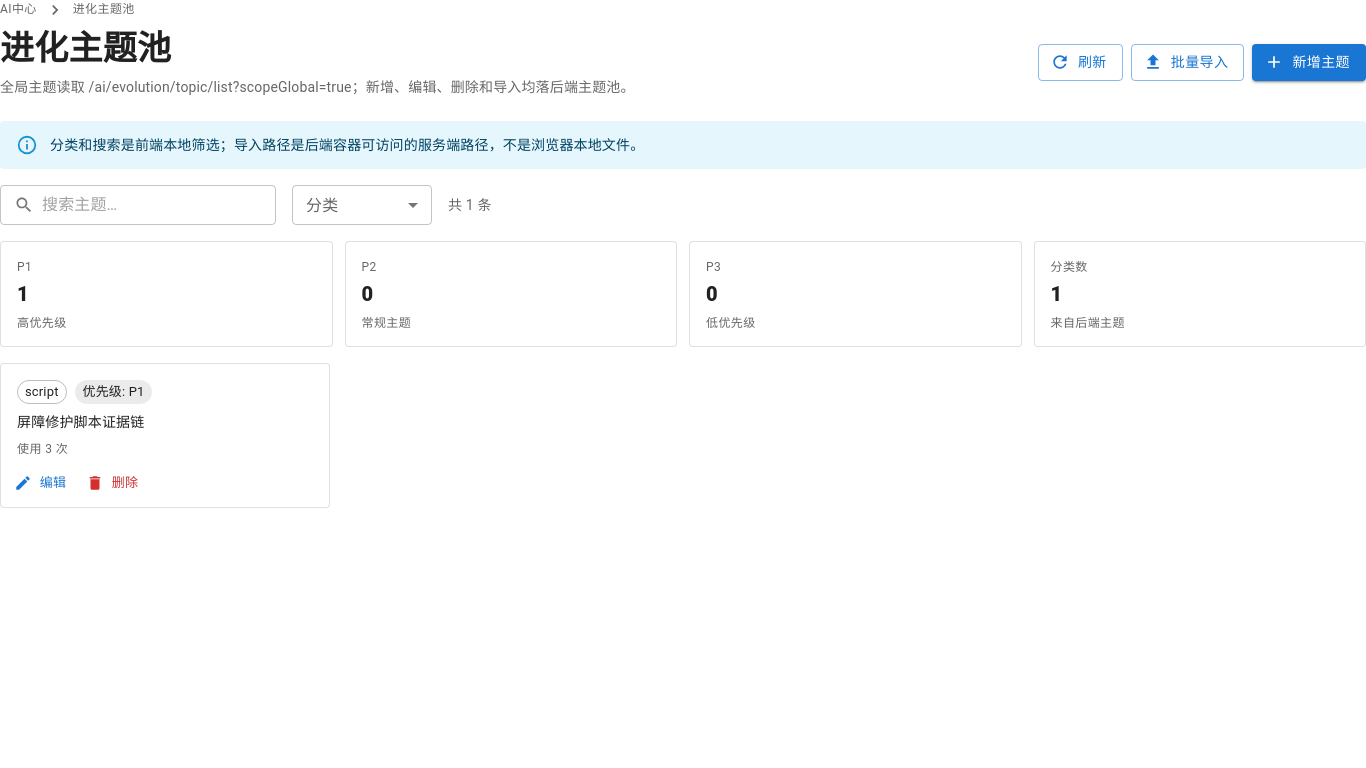
Scenario: Evolution ops pages › EvolutionTopicPage keeps edit dialog and values when save endpoint fails
The width and height of the screenshot is (1366, 768).
Expected: the text "屏障修护脚本证据链" is shown, [17,414,144,430]
Click the button "新增主题" at (1309, 62), box [1252,44,1365,81]
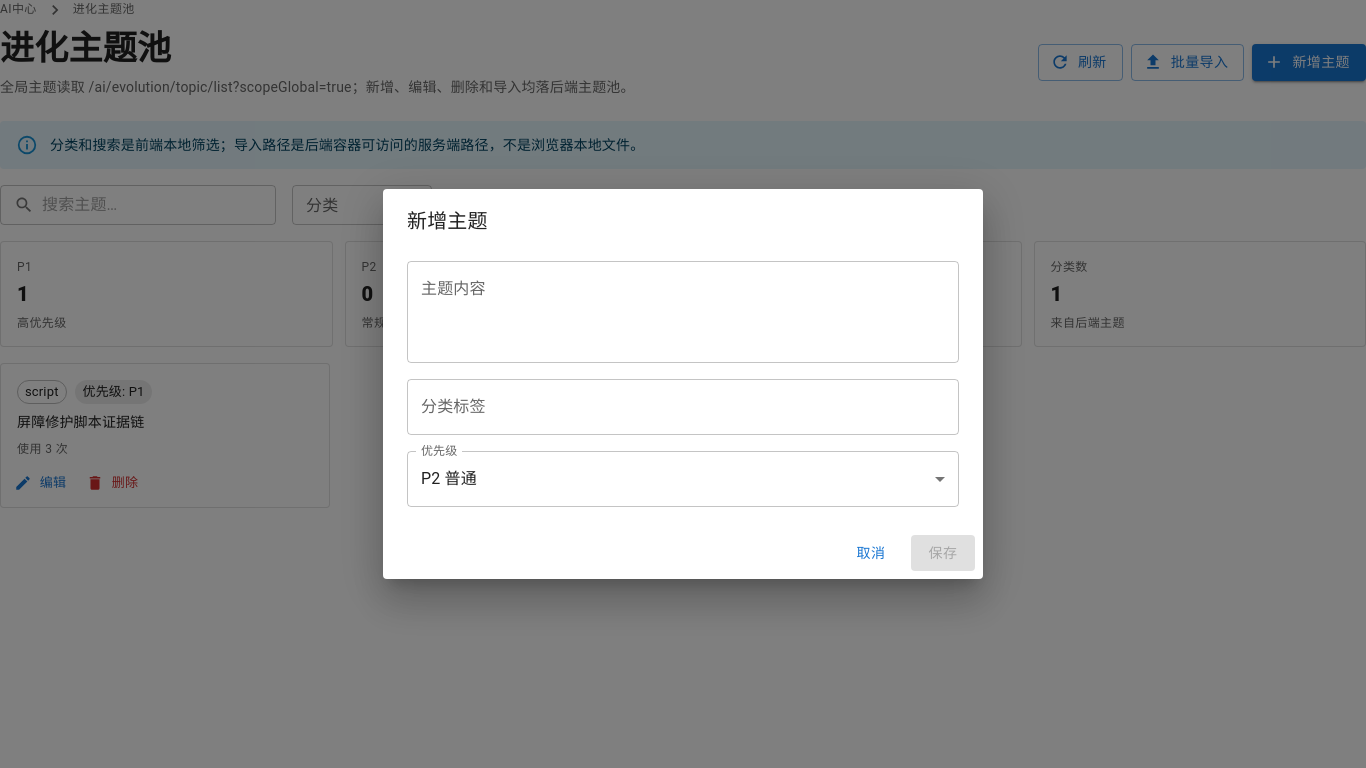
Type "直播转化证据链" into the text box labelled "主题内容" at (683, 312), box [421,277,945,346]
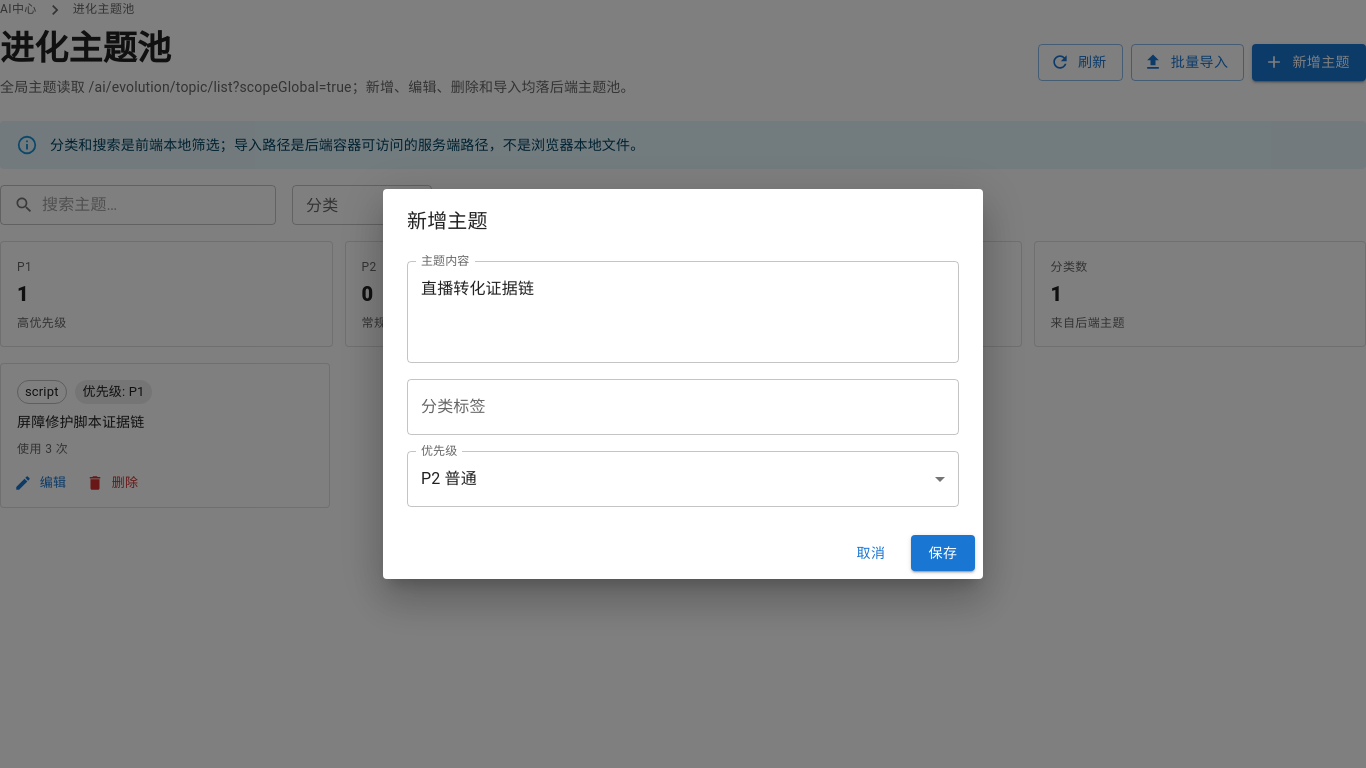
Type "live" into the field labelled "分类标签" at (683, 407), box [407,379,959,435]
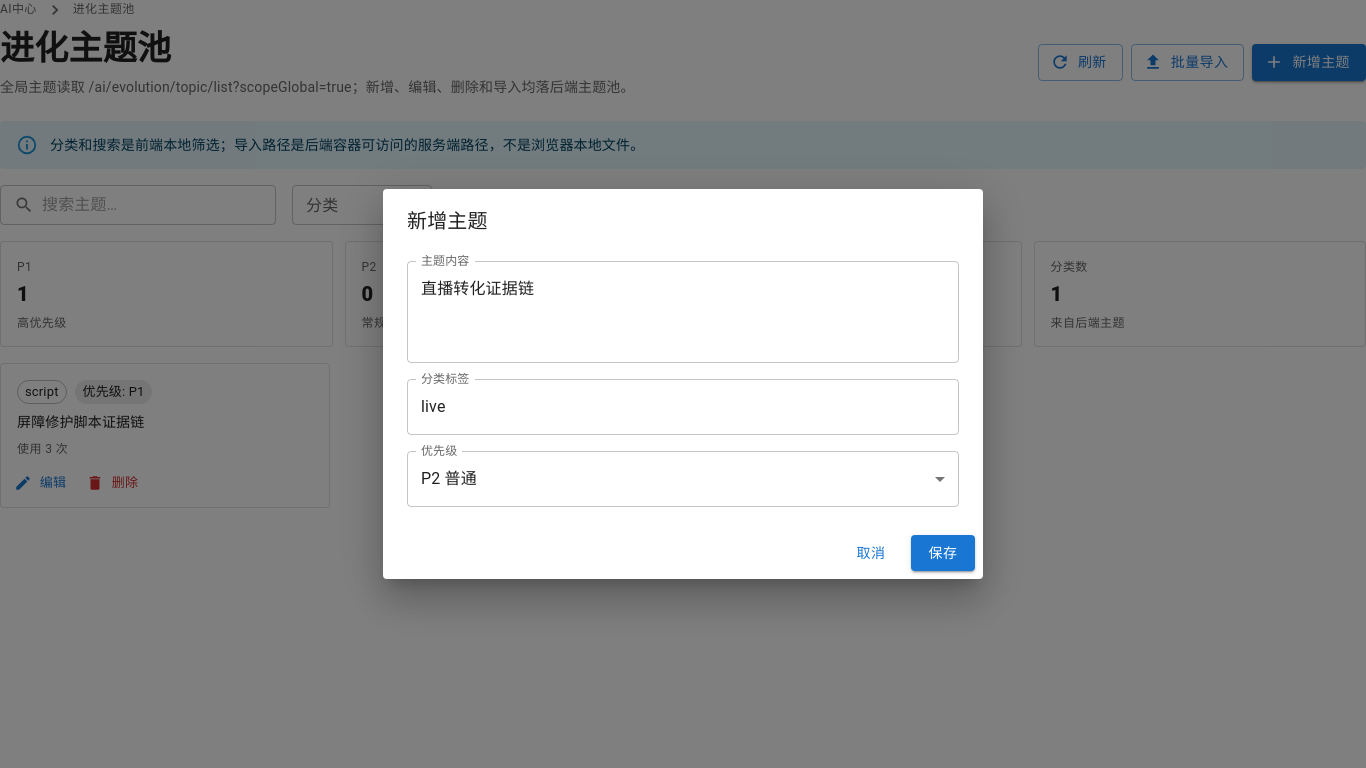
Click the button with test id "evolution-topic-save-submit" at (943, 553), box [911,535,975,571]
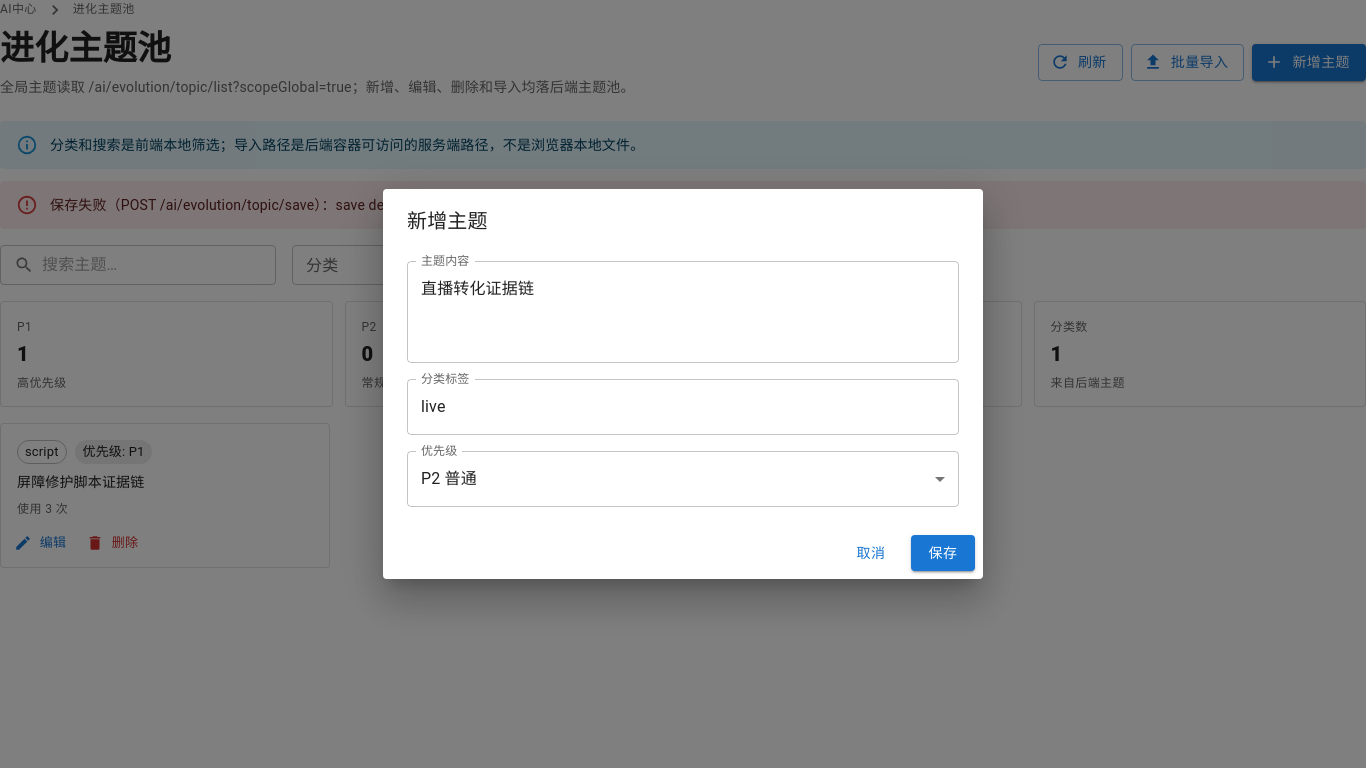
Expected: the dialog "新增主题" is shown, [383,189,983,579]
Expected: the text "保存失败（POST /ai/evolution/topic/save）：save denied。编辑弹窗和输入值会保留。" is shown, [50,197,595,213]
